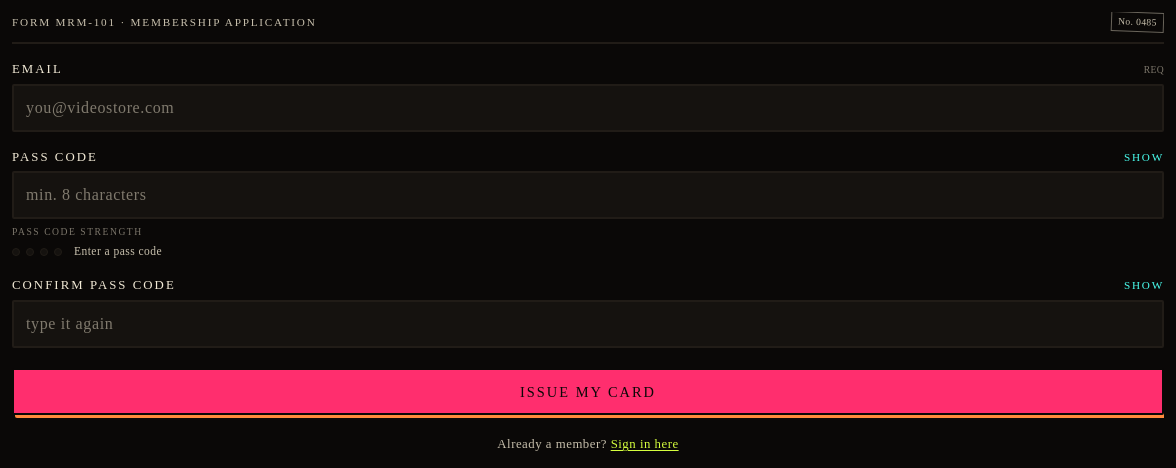
Test: SignupForm › renders an accessible pass-code strength status that updates with input
Check: the text "Enter a pass code" is shown, box [74, 243, 162, 260]
Type "Str0ng!Pass" into the password field labelled "Pass code". click: (588, 195)
box: [12, 171, 1164, 219]
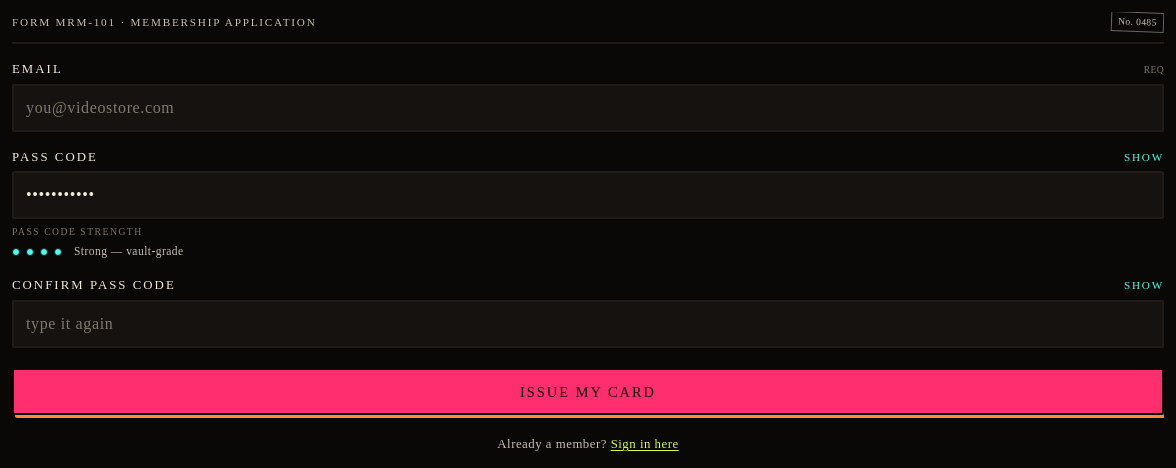
Check: the text "Strong — vault-grade" is shown, box [74, 243, 184, 260]
